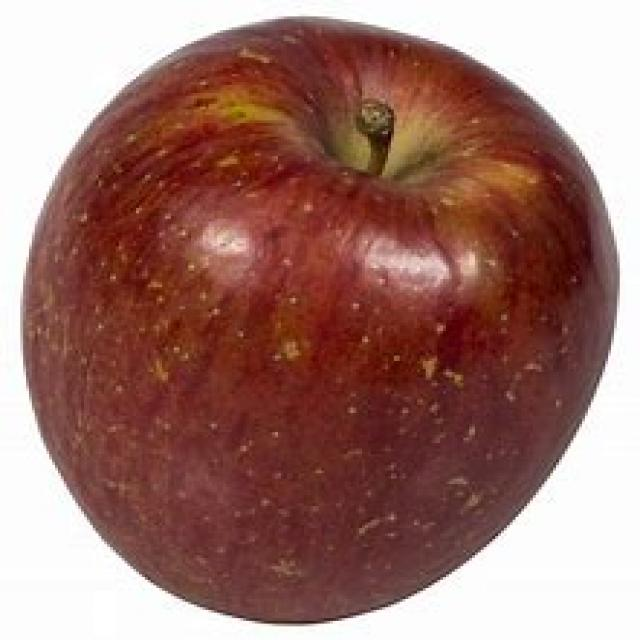Apple: (14, 17, 623, 624)
